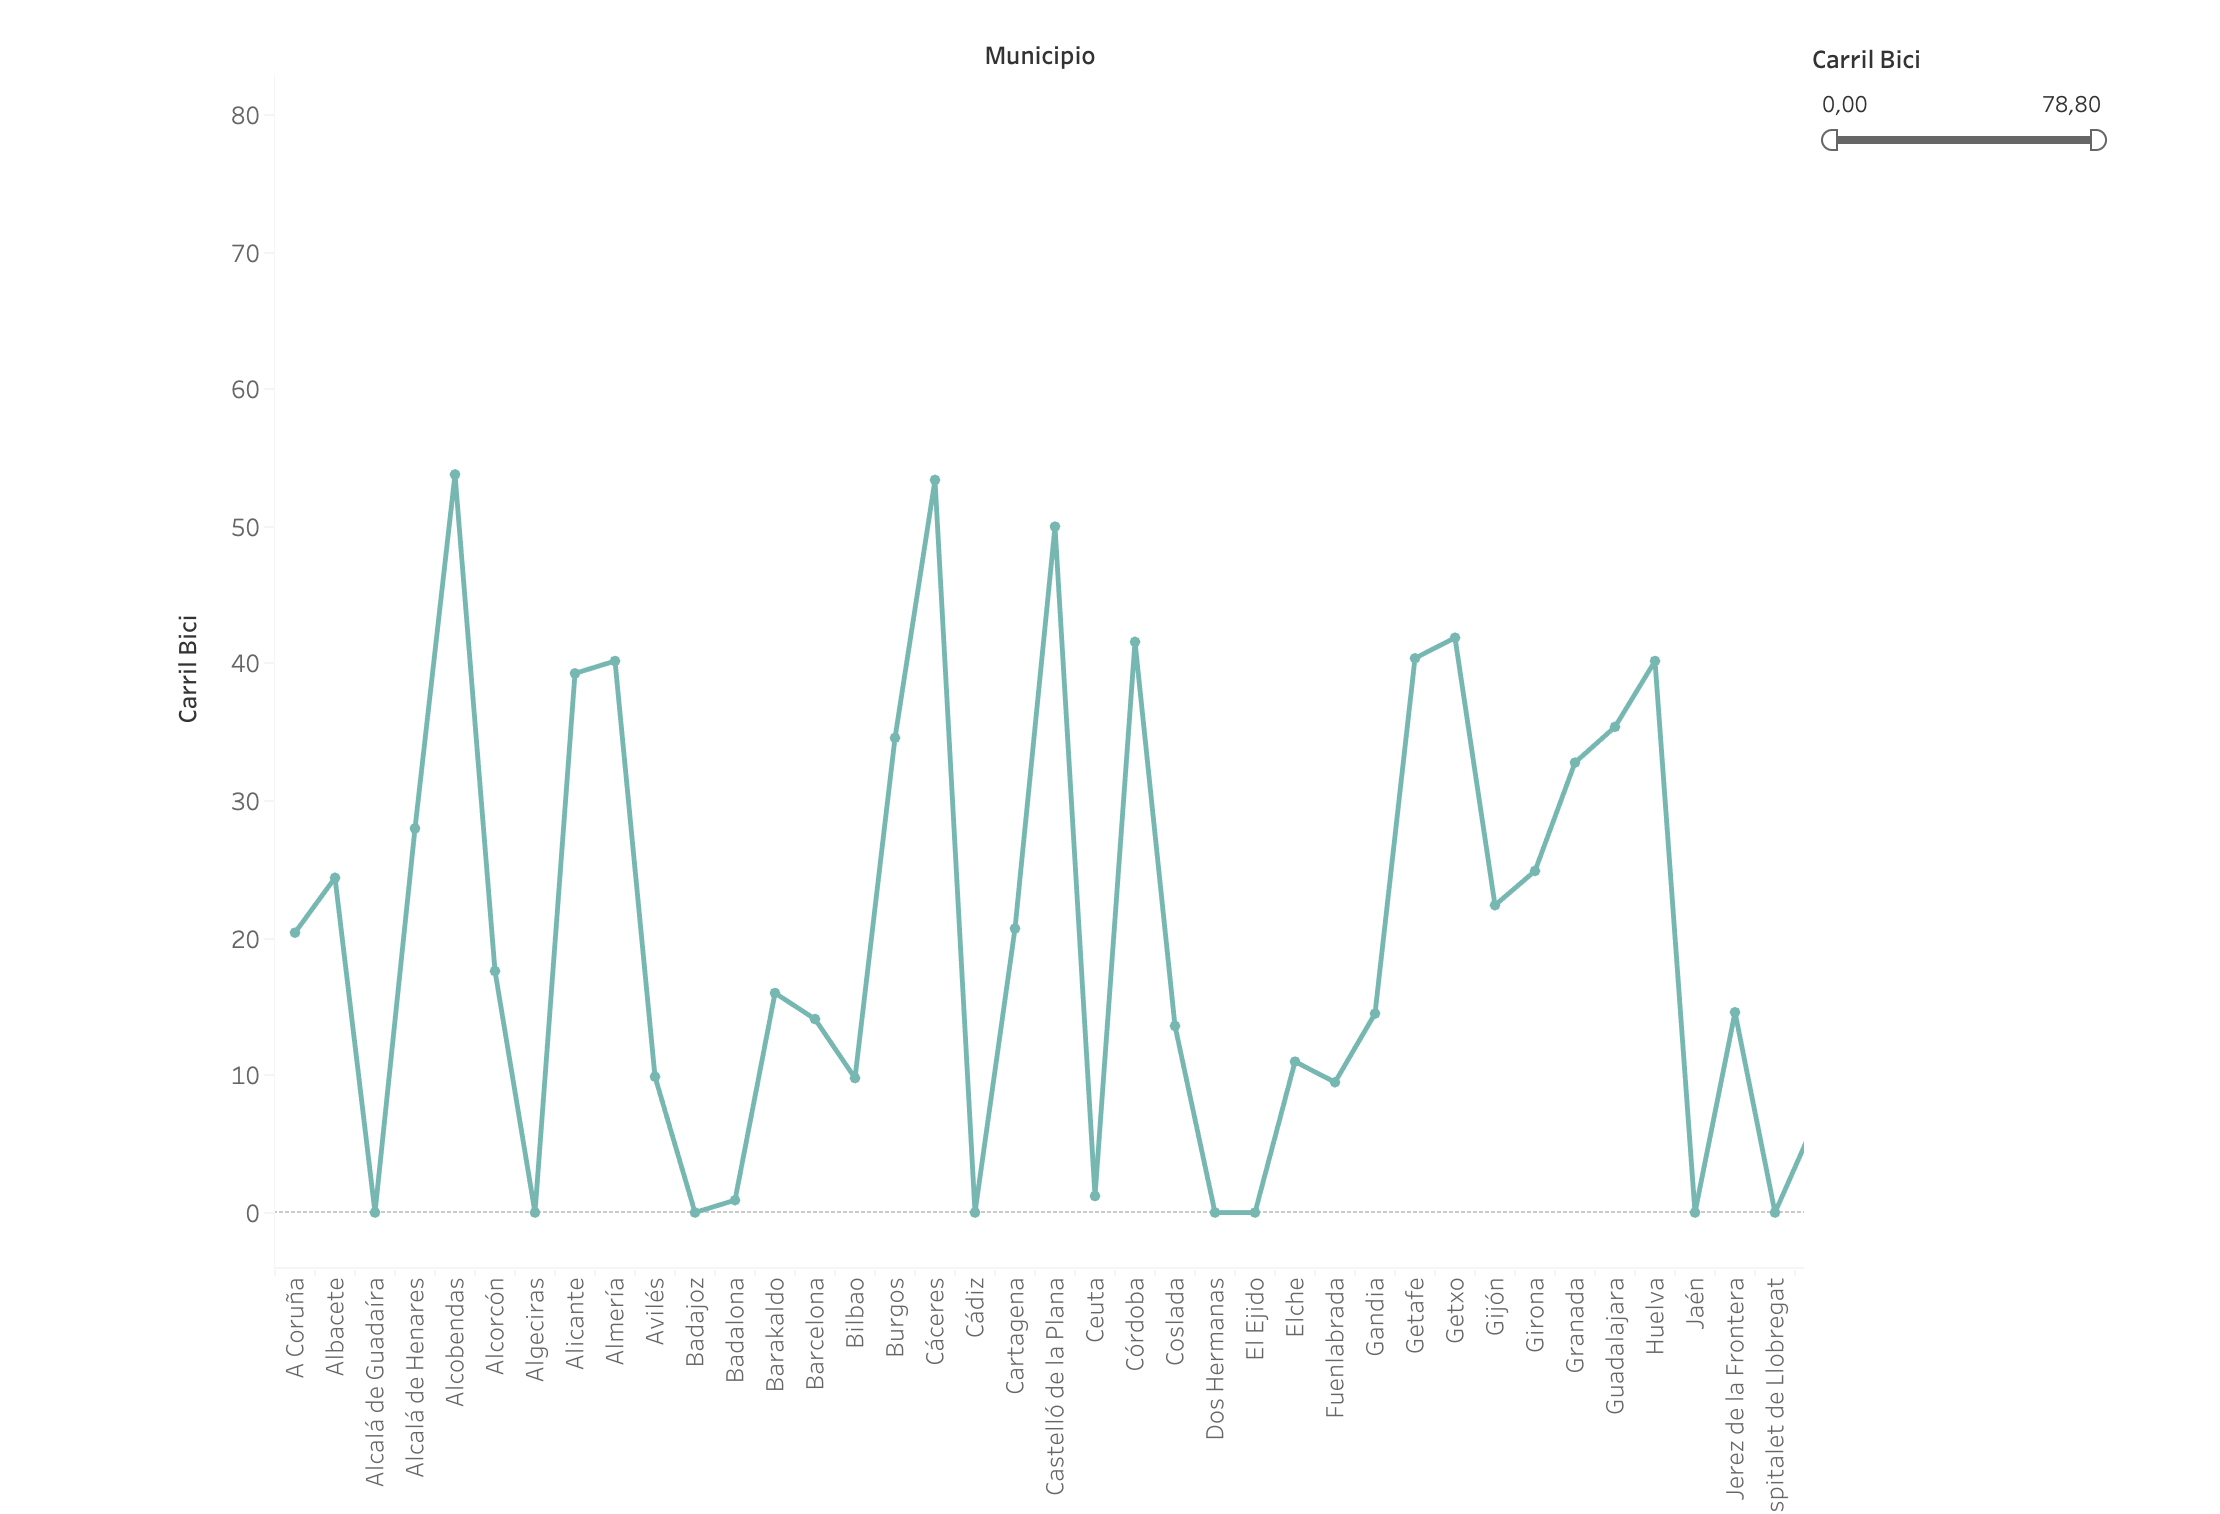

The page's visual inventory and layout, read from the dashboard file:
{"tool":"tableau","page":{"name":"CarrilBici","canvas":[1000,800],"ordinal":1},"visuals":[{"type":"image","param":"/Users/esteban/Desktop/Captura de pantalla 2023-08-13 a las 14.37.50.png","box":[8,8,984,784]}]}

Visuals, with their boxes on the page's 1000x800 design canvas (x1, y1, x2, y2). These are canvas units, not pixel positions in the 2220x1514 screenshot, which may show the page scaled, cropped or inside an application window:
image: select_region(8, 8, 992, 792)
